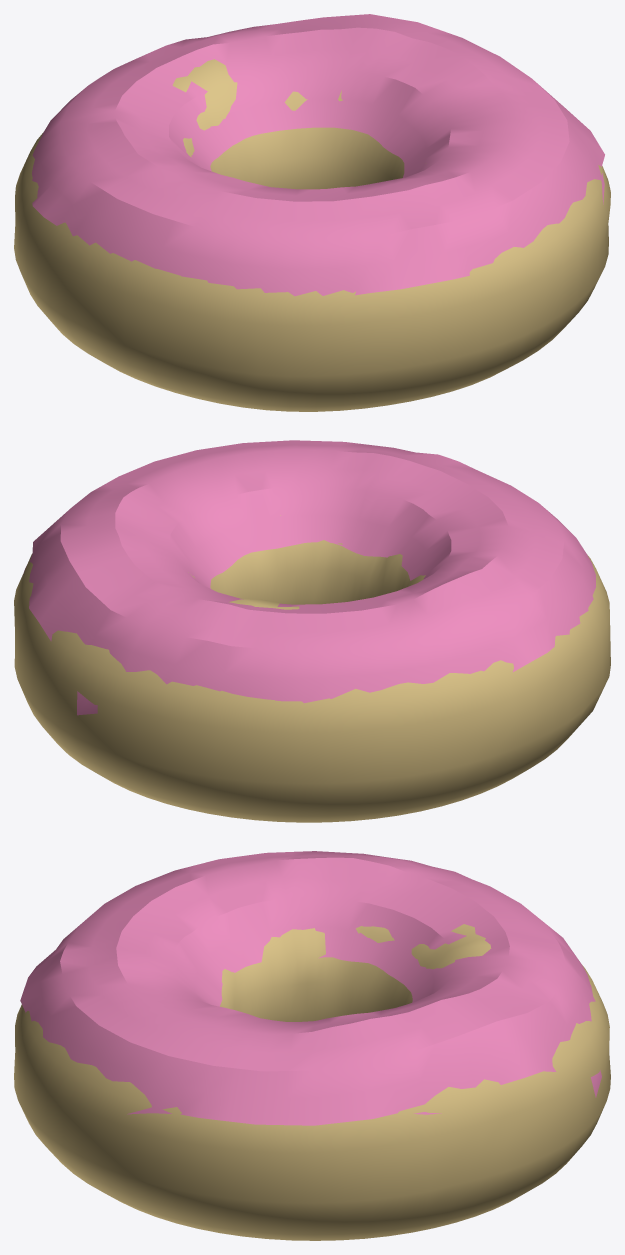
File: donut.f2ab7c0f.gltf
3 views of the same model, one above another, from view 1: azimuth 30°, elevation 25°; view 2: azimuth 150°, elevation 25°; view 3: azimuth 270°, elevation 25° (orthographic).
Parts seen in each view (by area): view 1: Icing, Donut; view 2: Icing, Donut; view 3: Icing, Donut.
Part boxes in pixels (box(x1,y1,x2,y2)): Icing: box(32, 14, 604, 296); Donut: box(14, 59, 610, 411); Icing: box(23, 440, 595, 715); Donut: box(14, 515, 610, 822); Icing: box(20, 851, 601, 1125); Donut: box(14, 924, 610, 1240).
Size of the model in its own units: 0.1509 by 0.0607 by 0.1497.
